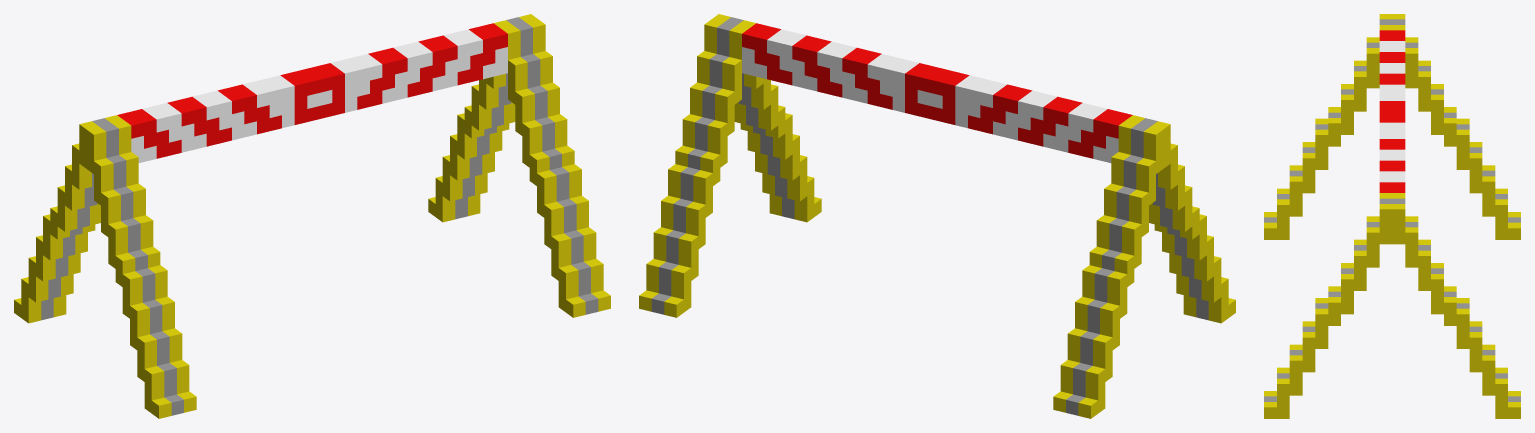
File: valla.obj
3 renders of one model, left to right at view 1: azimuth 30°, elevation 25°; view 2: azimuth 150°, elevation 25°; view 3: azimuth 270°, elevation 25°, orthographic. The views are drawn at different scales.
Bounding box in the file's own units: 3.6 × 1.8 × 2.
1 material, 1 textured.
